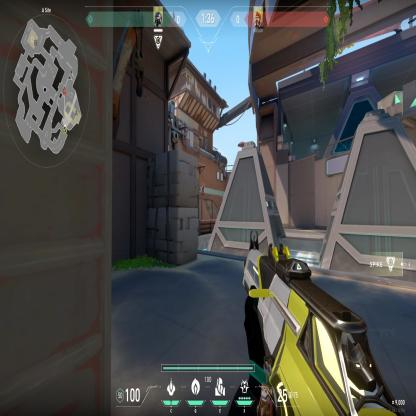enemy: (201, 180, 205, 196)
